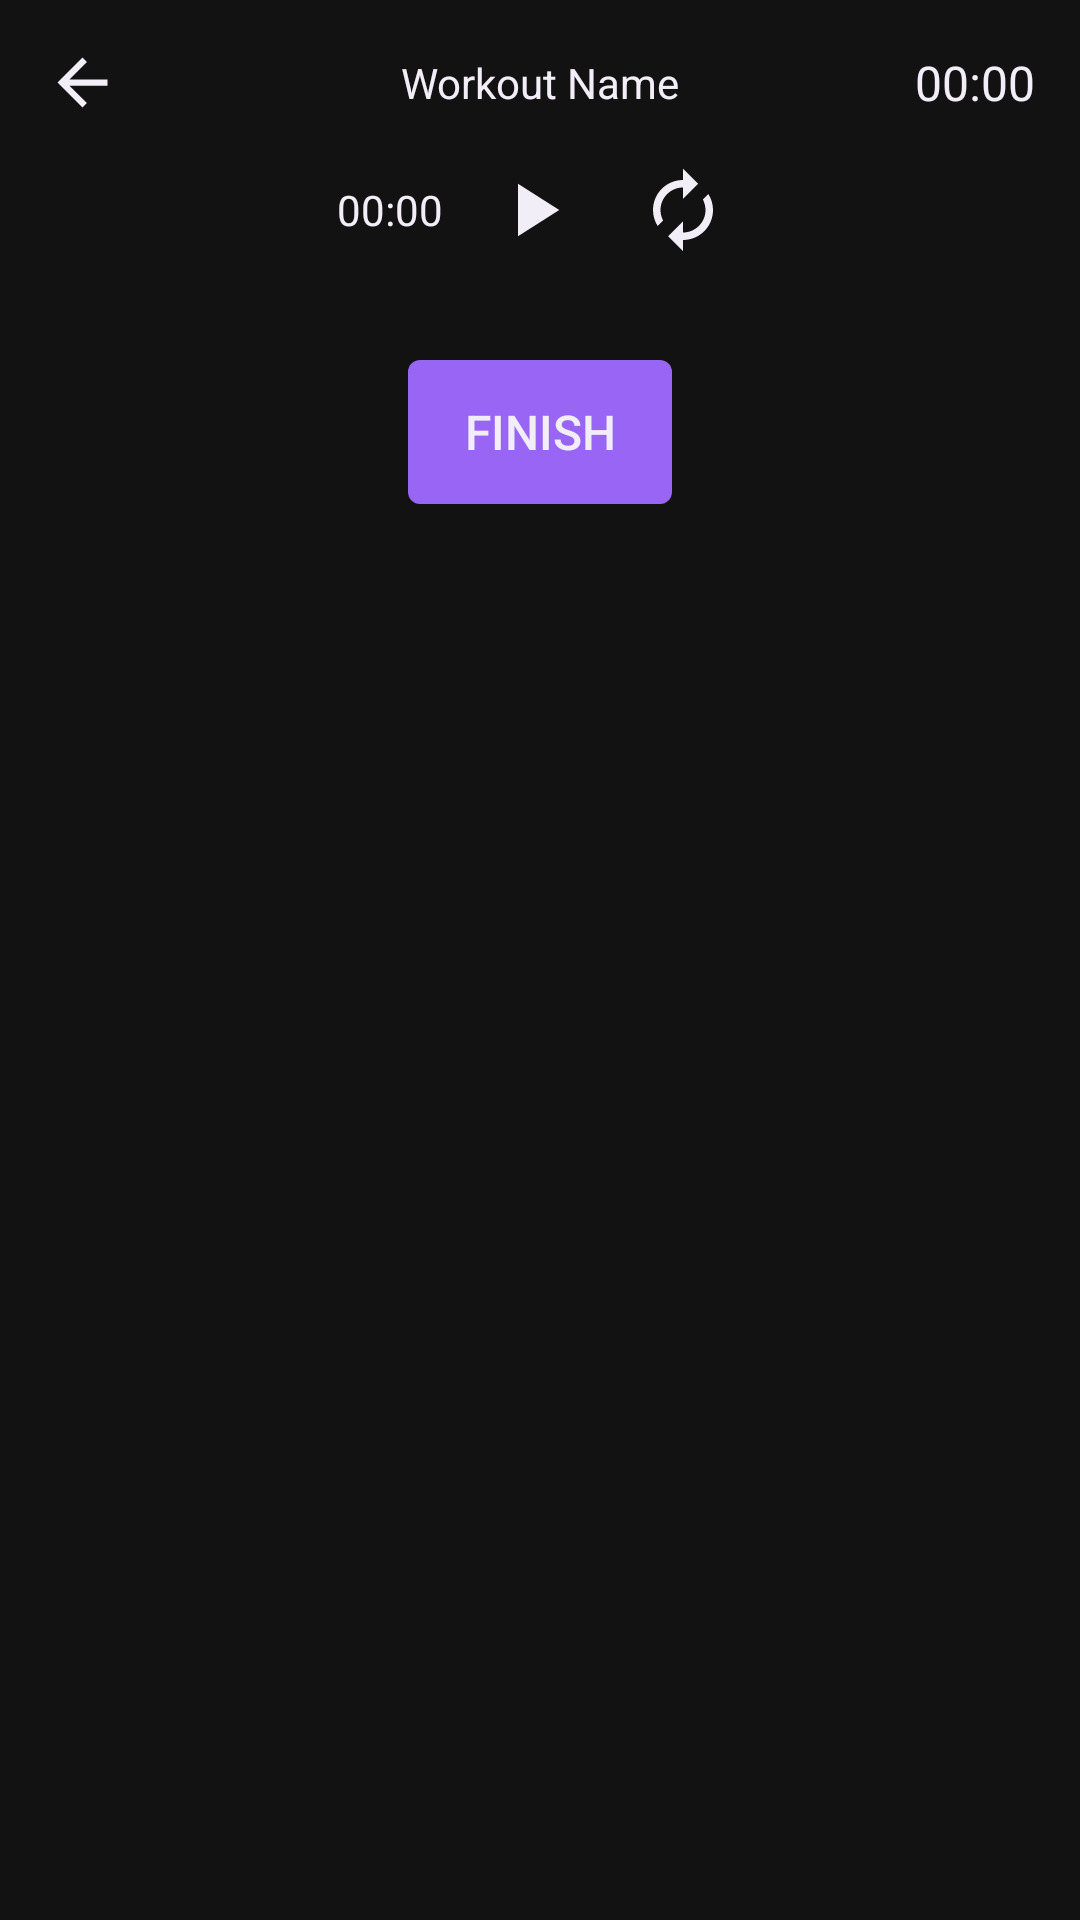

Named icons in this screenshot (1080 × 1920) and their centers, point (x, y):
back: point (82, 82)
play: point (538, 210)
restart: point (683, 210)
